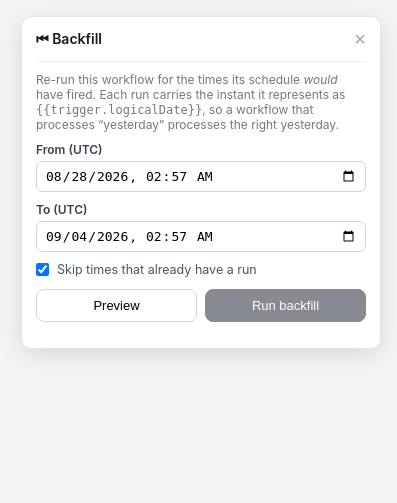
Test: BackfillPanel › invalidates the plan when the window changes
Click the button "Preview": (116, 306) x1=36 y1=289 x2=197 y2=322
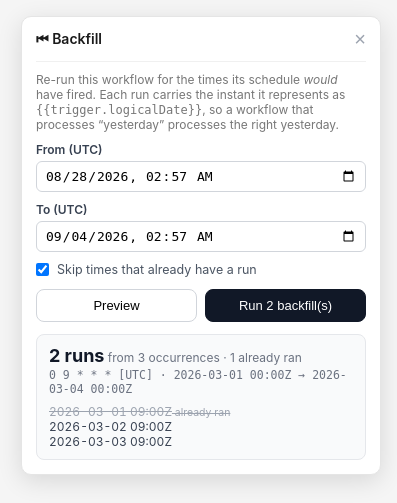
Expected: the text "2 runs from 3 occurrences · 1 already ran" is shown, x1=49 y1=345 x2=302 y2=366
Replace the text in the field named "Backfill window start" with "2026-01-01T00:00": (201, 176) x1=36 y1=161 x2=366 y2=192
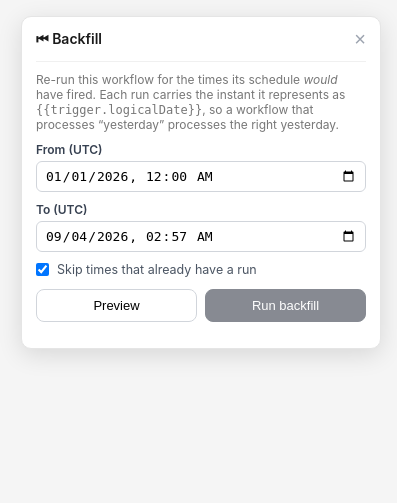
Expected: the text "2 runs" is gone
Expected: the button "Run backfill" is disabled, x1=205 y1=289 x2=366 y2=322
